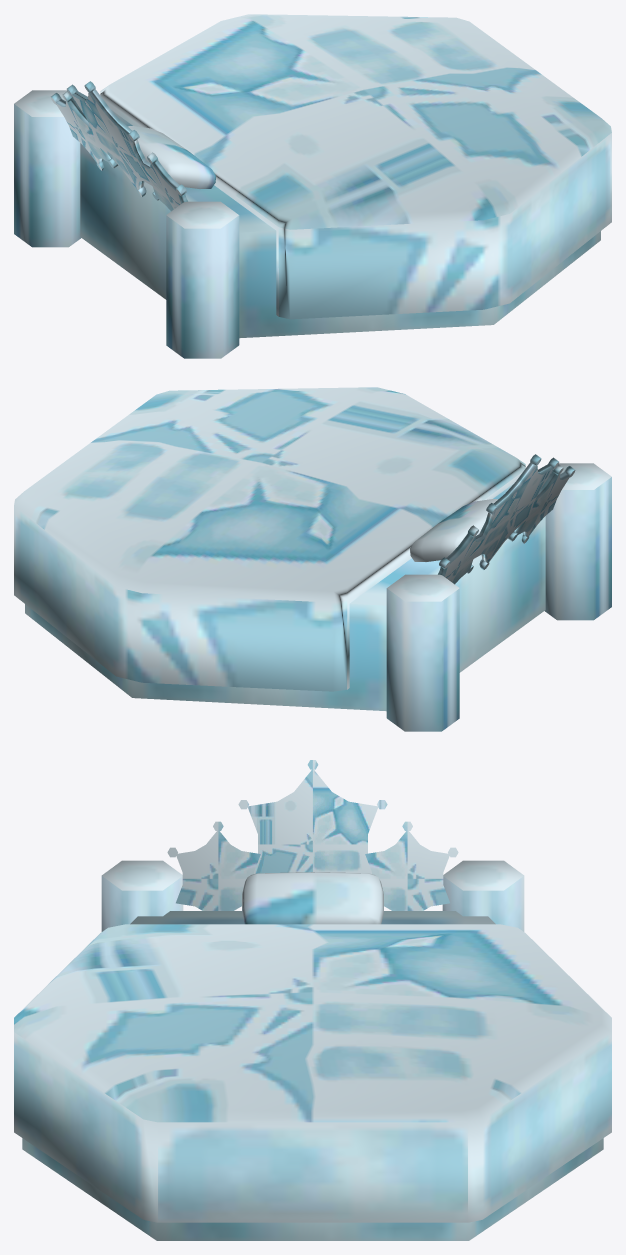
Rendered from int_ice_bedW.dae.
3 renders of one model, top to bottom at view 1: azimuth 30°, elevation 25°; view 2: azimuth 150°, elevation 25°; view 3: azimuth 270°, elevation 25°, orthographic. The views are drawn at different scales.
Visible parts, largest first — view 1: int_ice_bedW; view 2: int_ice_bedW; view 3: int_ice_bedW.
Part boxes in pixels (x1=…): int_ice_bedW: x1=14, y1=14, x2=611, y2=358; int_ice_bedW: x1=14, y1=387, x2=611, y2=731; int_ice_bedW: x1=14, y1=760, x2=611, y2=1240.
Size of the model in its own units: 62.28 by 28.23 by 63.13.
Materials: 1 (1 with a texture image).
